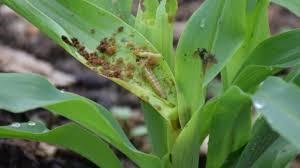fallarmy_worm: (138, 62, 167, 96)
